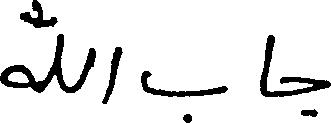X: (141, 66, 227, 122), (0, 0, 32, 93), (281, 72, 330, 121), (103, 42, 120, 108), (51, 12, 64, 95), (260, 30, 273, 101), (80, 43, 94, 93)
